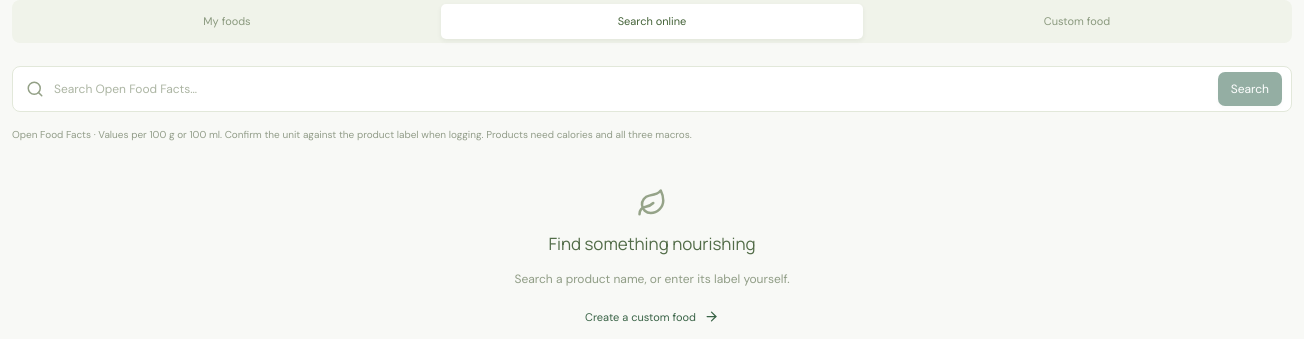
Test: shows a service error without pretending the search is empty and allows retry
Type "chickpeas" into the field named "Search foods". click: (631, 88)
box: [54,72,1208,106]
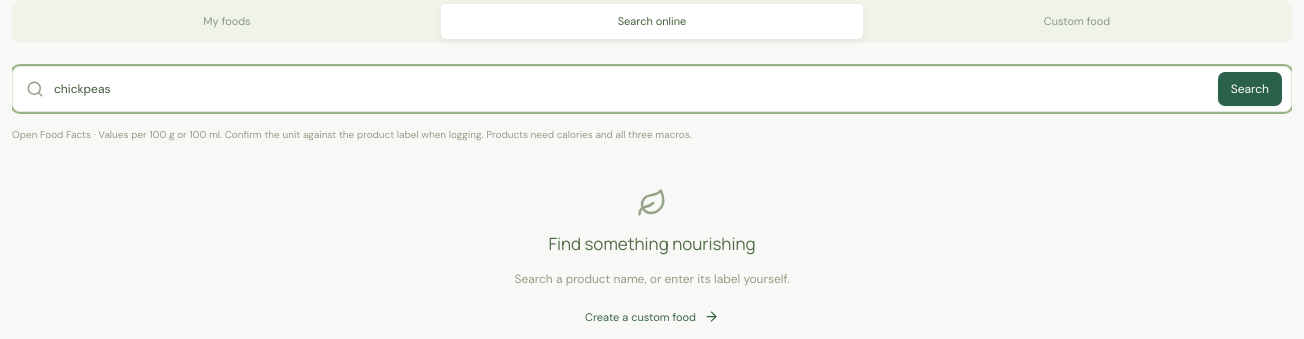
Click the button "Search". click: (1250, 88)
box: [1218,72,1282,106]
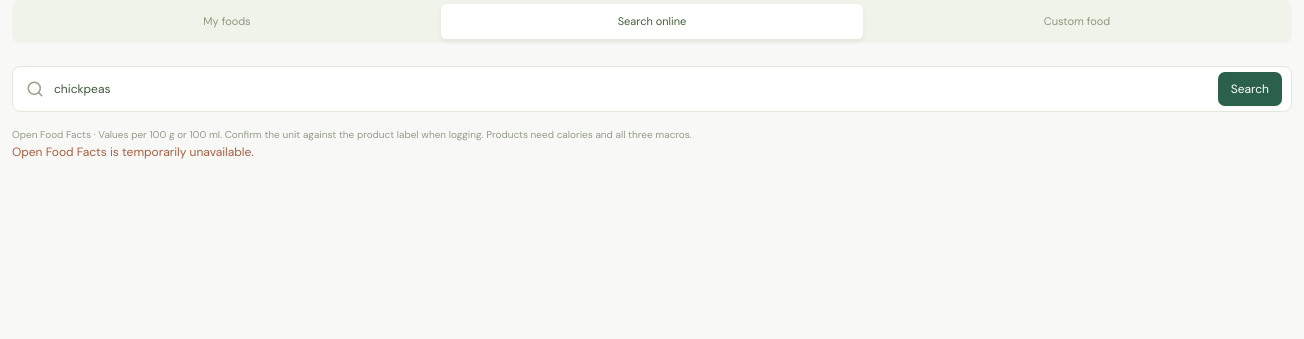
Expected: the message shows "temporarily unavailable", [12,144,254,160]
Expected: the heading "Find something nourishing" is gone
Click the button "Search". click: (1250, 88)
box: [1218,72,1282,106]
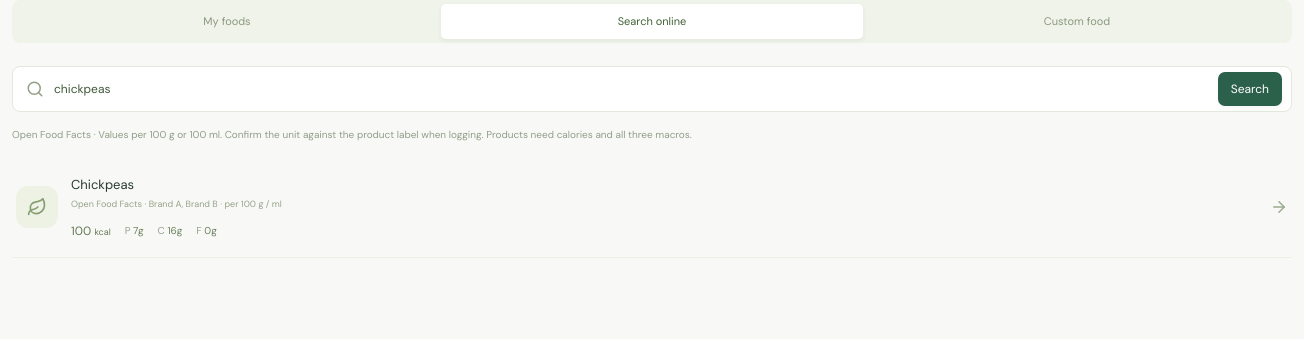
Expected: the message "Open Food Facts is temporarily unavailable." is gone
Expected: the button that starts with "Chickpeas" is shown, [12,158,1292,258]
